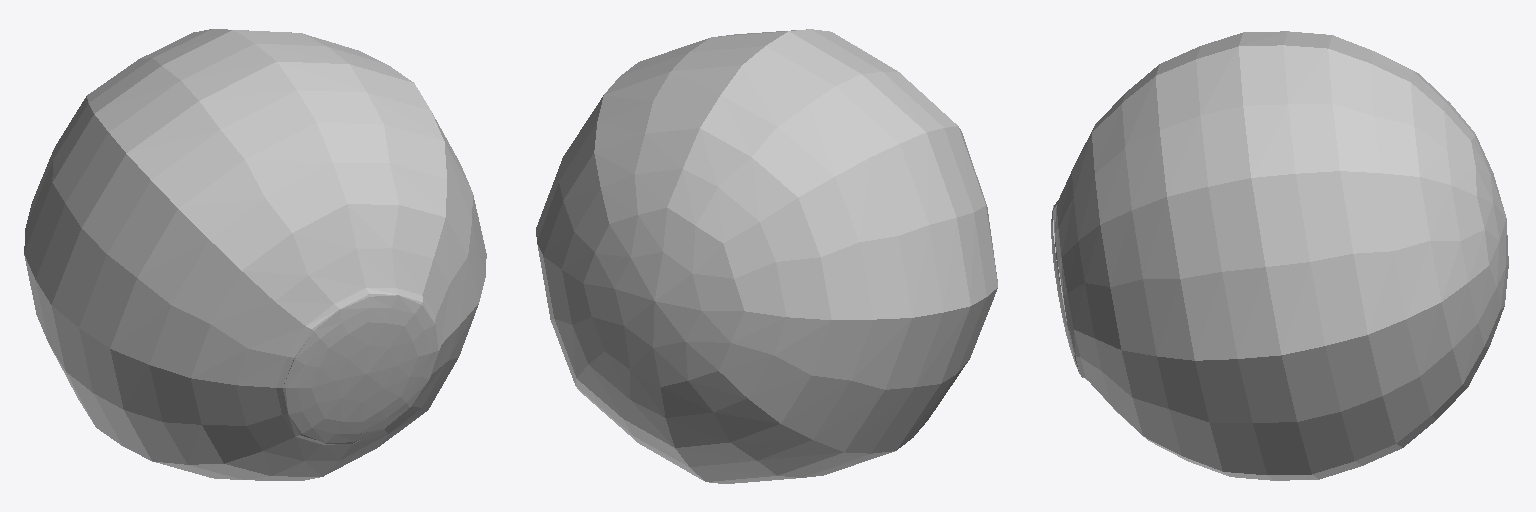
Rendered from Eye_Ball_Inner_Right.obj.
3 renders of one model, left to right at view 1: azimuth 30°, elevation 25°; view 2: azimuth 150°, elevation 25°; view 3: azimuth 270°, elevation 25°, orthographic.
Parts seen in each view (by area): view 1: Eye_Balll_Inner_Mesh group1; view 2: Eye_Balll_Inner_Mesh group1; view 3: Eye_Balll_Inner_Mesh group1.
Boxes of the visible parts, box(x1,y1,x2,y2) form: Eye_Balll_Inner_Mesh group1: box(24, 29, 486, 480); Eye_Balll_Inner_Mesh group1: box(536, 29, 997, 483); Eye_Balll_Inner_Mesh group1: box(1051, 31, 1508, 480).
Size of the model in its own units: 0.3528 by 0.3492 by 0.3433.